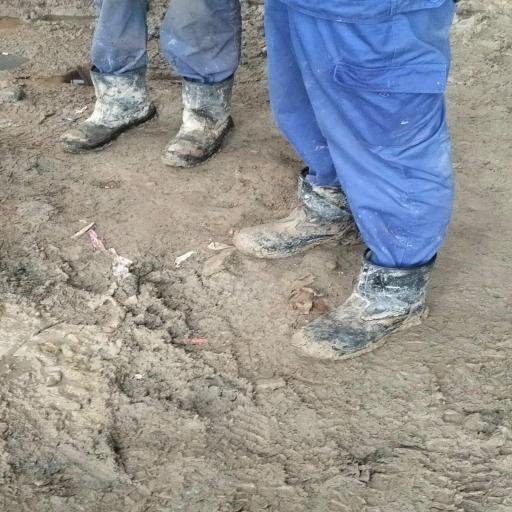safety_shoe: (290, 258, 438, 358), (230, 178, 364, 254), (53, 69, 161, 151), (164, 81, 238, 166)
